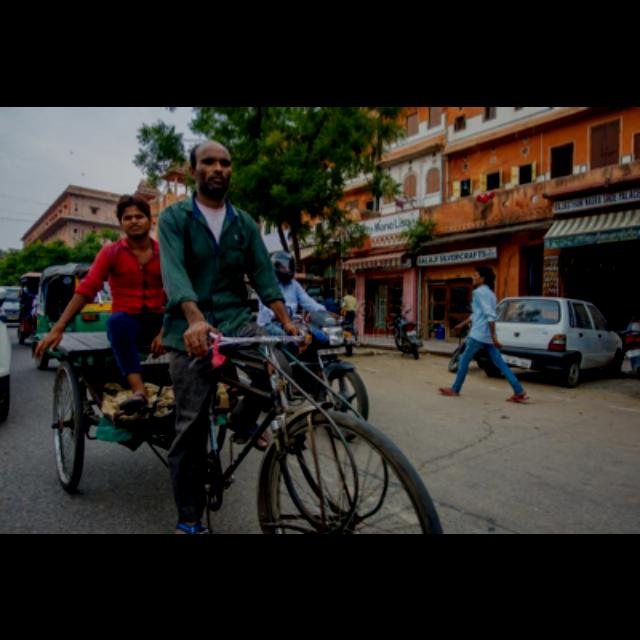Without Helmet: (187, 132, 237, 196)
